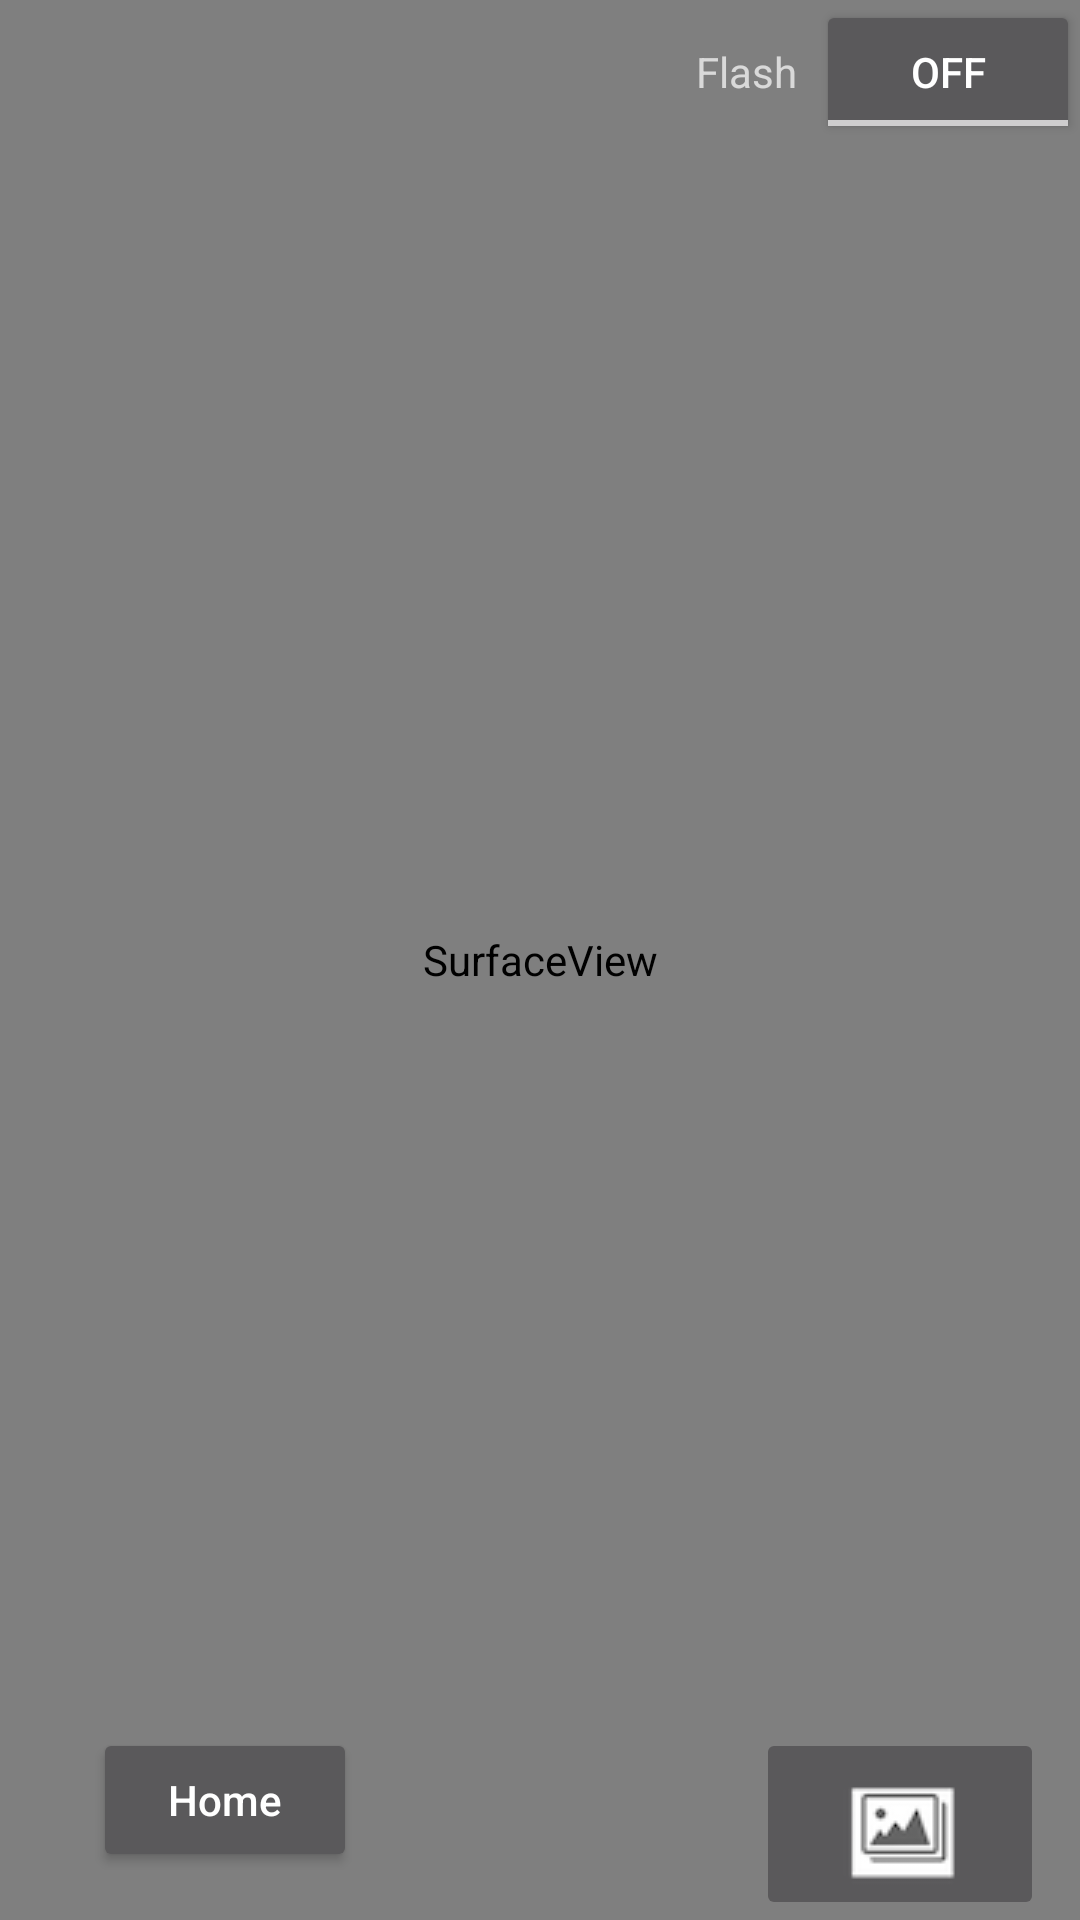

Locate icon controls on the screen. Image size 1080 x 1920, boxes as (x1, y1, x2, y2).
gallery: (768, 1746, 1032, 1902)
